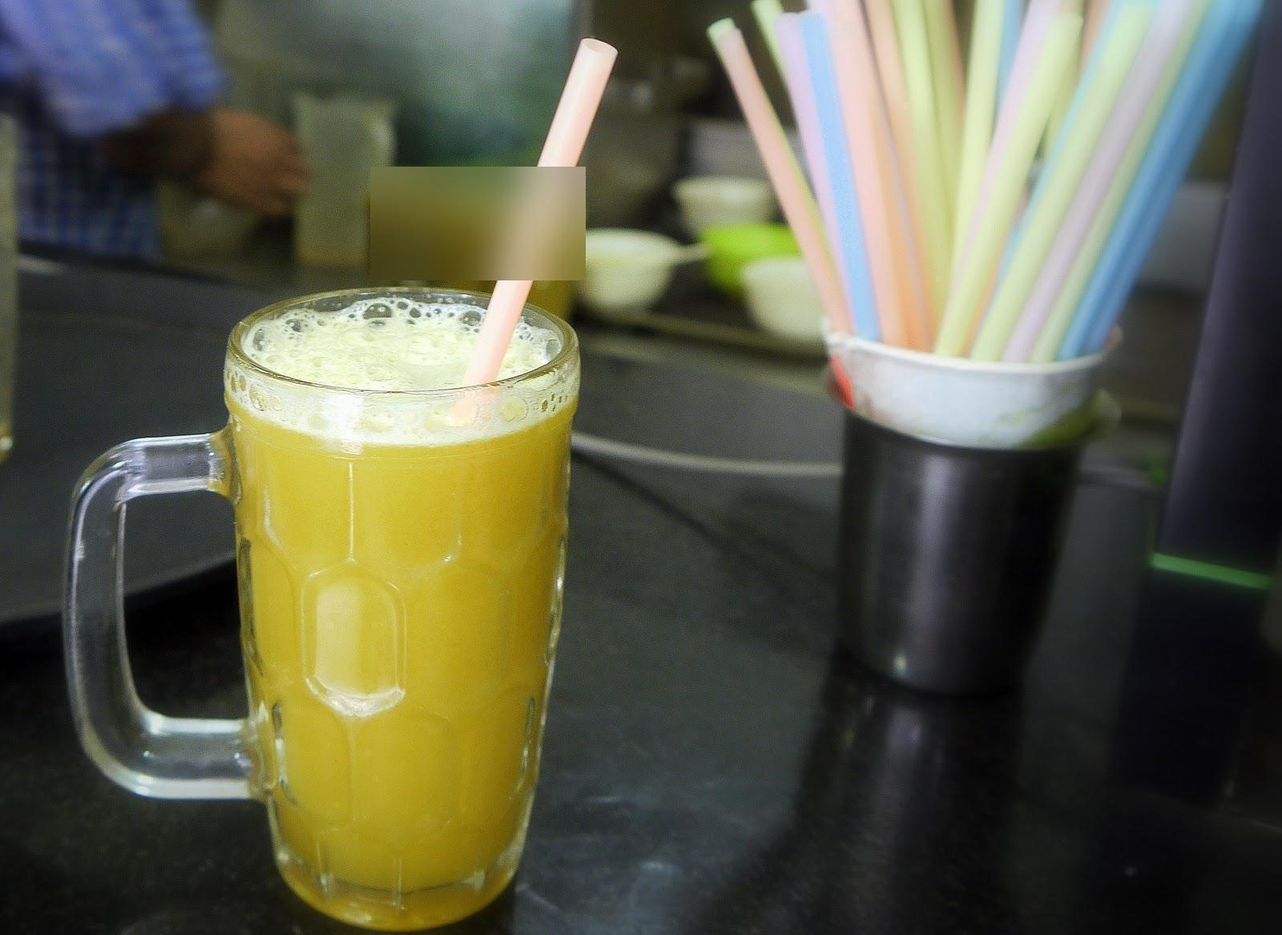glass-mug: (61, 282, 586, 930)
